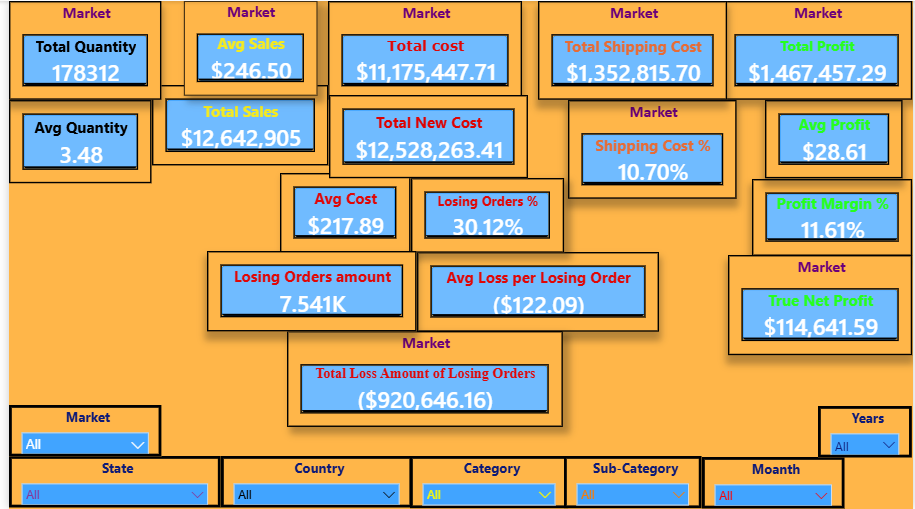

The dashboard page shown, as its layout file describes it:
{"tool":"powerbi","page":{"name":"Page 13 Total every  market","canvas":[1280,720],"ordinal":13},"visuals":[{"type":"cardVisual","title":"Market","fields":{"Data":["fact table Global _ Superstore _ Cleaned.Total cost"]},"box":[452.8,0,275.3,140.4],"z":0},{"type":"cardVisual","title":"Market","fields":{"Data":["fact table Global _ Superstore _ Cleaned.Total Sales"]},"box":[202.3,119.7,250.5,114.2],"z":1000},{"type":"cardVisual","title":"Market","fields":{"Data":["fact table Global _ Superstore _ Cleaned.Avg Loss per Losing Order"]},"box":[578.2,355.8,343.3,112.6],"z":2000},{"type":"cardVisual","title":"Market","fields":{"Data":["fact table Global _ Superstore _ Cleaned.Total Loss Amount"]},"box":[394.7,468.4,390.5,136.2],"z":3000},{"type":"cardVisual","title":"Market","fields":{"Data":["fact table Global _ Superstore _ Cleaned.Profit Margin %"]},"box":[1052.9,251.9,227.1,108.7],"z":4000},{"type":"cardVisual","title":"Market","fields":{"Data":["fact table Global _ Superstore _ Cleaned.Avg Profit"]},"box":[1072.2,140.4,195.4,111.5],"z":5000},{"type":"cardVisual","title":"Market","fields":{"Data":["fact table Global _ Superstore _ Cleaned.Total Profit"]},"box":[1008.9,0,271.1,140.4],"z":6000},{"type":"cardVisual","title":"Market","fields":{"Data":["fact table Global _ Superstore _ Cleaned.Avg Quantity"]},"box":[0,140.4,202.3,118.4],"z":7000},{"type":"cardVisual","title":"Market","fields":{"Data":["fact table Global _ Superstore _ Cleaned.Total Quantity"]},"box":[0,0,216.1,140.4],"z":8000},{"type":"cardVisual","title":"Market","fields":{"Data":["fact table Global _ Superstore _ Cleaned.Avg Cost"]},"box":[383.6,243.2,184.8,112.6],"z":9000},{"type":"cardVisual","title":"Market","fields":{"Data":["fact table Global _ Superstore _ Cleaned.Avg Sales"]},"box":[247.7,0,188.6,133.5],"z":10000},{"type":"slicer","title":"State","fields":{"Values":["fact table Global _ Superstore _ Cleaned.Order ID"]},"box":[0,645.5,300,72.9],"z":11000},{"type":"slicer","title":"Country","fields":{"Values":["Dim_Customer.Country"]},"box":[300,645.5,271.1,72.9],"z":12000},{"type":"slicer","title":"Category","fields":{"Values":["Dim_Product.Sub-Category"]},"box":[568.4,645.5,224.3,74.3],"z":13000},{"type":"slicer","title":"Sub-Category","fields":{"Values":["Dim_Product.Sub-Category"]},"box":[787.3,645.5,195.4,74.3],"z":14000},{"type":"slicer","title":"Moanth","fields":{"Values":["Dim_Date.Month Name","Dim_Date.Month"]},"box":[982.1,647,201.7,72.9],"z":15000},{"type":"slicer","title":"Years ","fields":{"Values":["Dim_Date.Year"]},"box":[1146.6,574.1,133.4,72.9],"z":16000},{"type":"slicer","title":"Market","fields":{"Values":["Dim_Customer.Market"]},"box":[0,572.6,216.1,72.9],"z":17000},{"type":"cardVisual","title":"Market","fields":{"Data":["fact table Global _ Superstore _ Cleaned.True Net Profit"]},"box":[1018.7,360,261.3,141.8],"z":18000},{"type":"cardVisual","title":"Market","fields":{"Data":["fact table Global _ Superstore _ Cleaned.Shipping Cost %"]},"box":[792.2,140.4,239,140.4],"z":19000},{"type":"cardVisual","title":"Market","fields":{"Data":["fact table Global _ Superstore _ Cleaned.Total Shipping Cost"]},"box":[750.1,0,268.4,140.4],"z":20000},{"type":"cardVisual","title":"Market","fields":{"Data":["fact table Global _ Superstore _ Cleaned.Losing Orders %"]},"box":[569.8,251.6,216.8,105.6],"z":21000},{"type":"cardVisual","fields":{"Data":["fact table Global _ Superstore _ Cleaned.Total New Cost"]},"box":[453.1,133.4,282.1,118.1],"z":22000},{"type":"cardVisual","fields":{"Data":["fact table Global _ Superstore _ Cleaned.Losing Orders amount"]},"box":[280.7,354.4,297.4,114],"z":23000}]}

Visuals, with their boxes in screenshot pixels (x1, y1, x2, y2), scaled from the page's 1280x720 canvas onto the 915x509 screenshot:
"Market" cardVisual: bbox=[324, 0, 520, 99]
"Market" cardVisual: bbox=[145, 85, 324, 165]
"Market" cardVisual: bbox=[413, 252, 659, 331]
"Market" cardVisual: bbox=[282, 331, 561, 427]
"Market" cardVisual: bbox=[753, 178, 914, 255]
"Market" cardVisual: bbox=[766, 99, 906, 178]
"Market" cardVisual: bbox=[721, 0, 914, 99]
"Market" cardVisual: bbox=[0, 99, 145, 183]
"Market" cardVisual: bbox=[0, 0, 154, 99]
"Market" cardVisual: bbox=[274, 172, 406, 252]
"Market" cardVisual: bbox=[177, 0, 312, 94]
"State" slicer: bbox=[0, 456, 214, 508]
"Country" slicer: bbox=[214, 456, 408, 508]
"Category" slicer: bbox=[406, 456, 567, 508]
"Sub-Category" slicer: bbox=[563, 456, 702, 508]
"Moanth" slicer: bbox=[702, 457, 846, 508]
"Years " slicer: bbox=[820, 406, 914, 457]
"Market" slicer: bbox=[0, 405, 154, 456]
"Market" cardVisual: bbox=[728, 255, 914, 355]
"Market" cardVisual: bbox=[566, 99, 737, 199]
"Market" cardVisual: bbox=[536, 0, 728, 99]
"Market" cardVisual: bbox=[407, 178, 562, 253]
cardVisual - fact table Global _ Superstore _ Cleaned.Total New Cost: bbox=[324, 94, 526, 178]
cardVisual - fact table Global _ Superstore _ Cleaned.Losing Orders amount: bbox=[201, 251, 413, 331]
